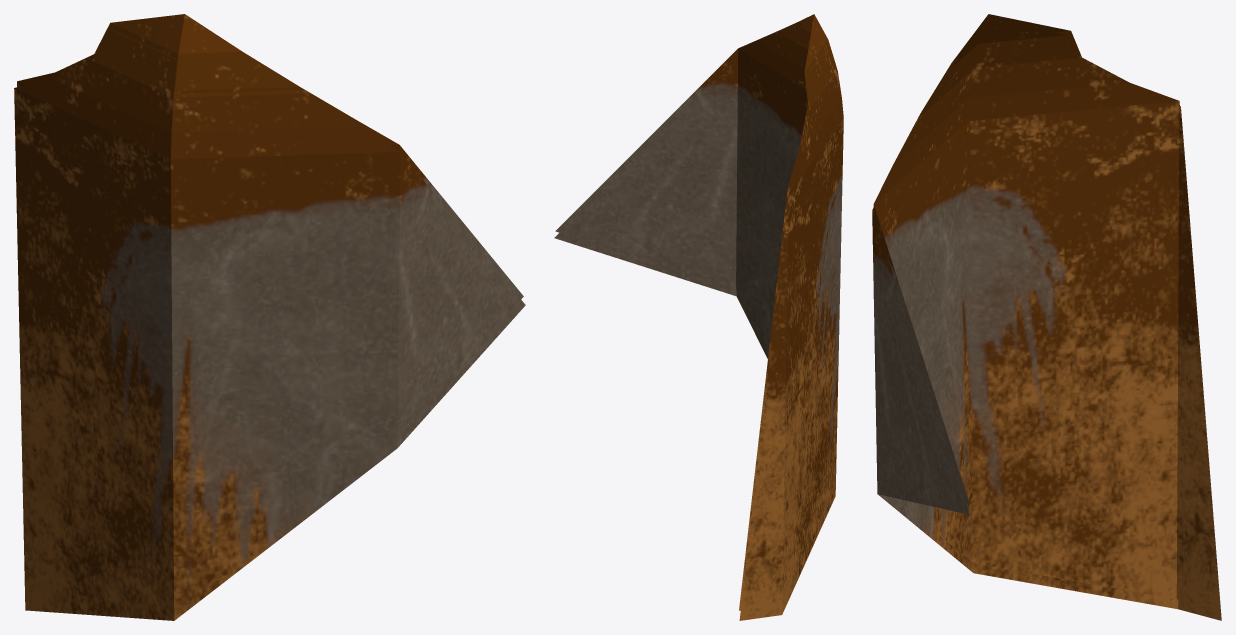
File: Bottle_05.FBX
3 views of the same model, side by side, from view 1: azimuth 30°, elevation 25°; view 2: azimuth 150°, elevation 25°; view 3: azimuth 270°, elevation 25° (orthographic). The views are drawn at different scales.
Parts seen in each view (by area): view 1: Object012; view 2: Object012; view 3: Object012.
Boxes of the visible parts, x1,y1,x2,y2 form: Object012: [14, 14, 525, 620]; Object012: [554, 14, 843, 620]; Object012: [872, 14, 1221, 620].
Size of the model in its own units: 81.91 by 128 by 65.02.
Materials: 1 (1 with a texture image).
